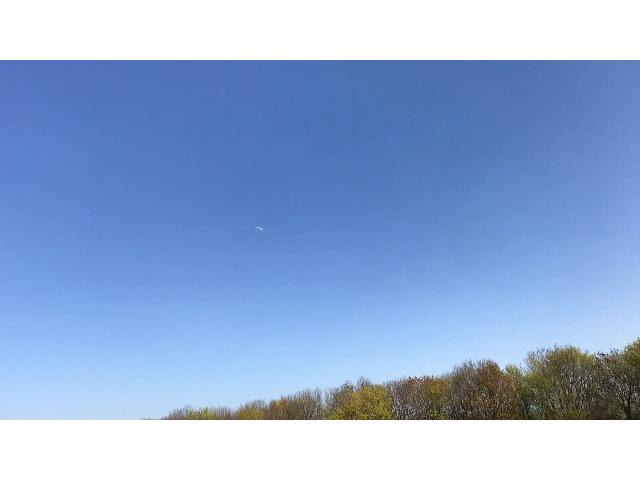Anti-Drone: (242, 217, 274, 237)
